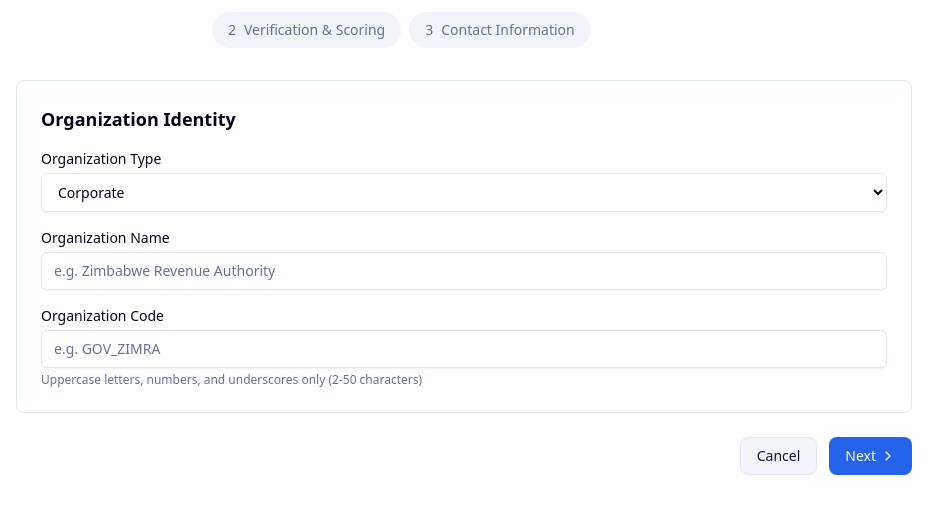
Test: OrganizationWizard › shows validation error when org_name is empty on Next
// Type a code but leave name empty
Type "TEST_CODE" into the field labelled "Organization Code" at (464, 349), box [41, 330, 887, 368]
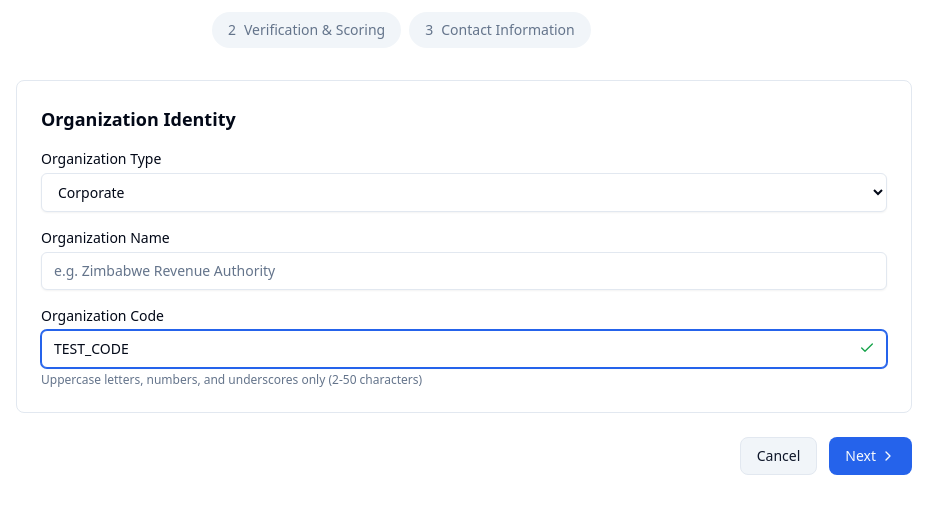
Click the button "Next" at (871, 456), box [829, 437, 912, 475]
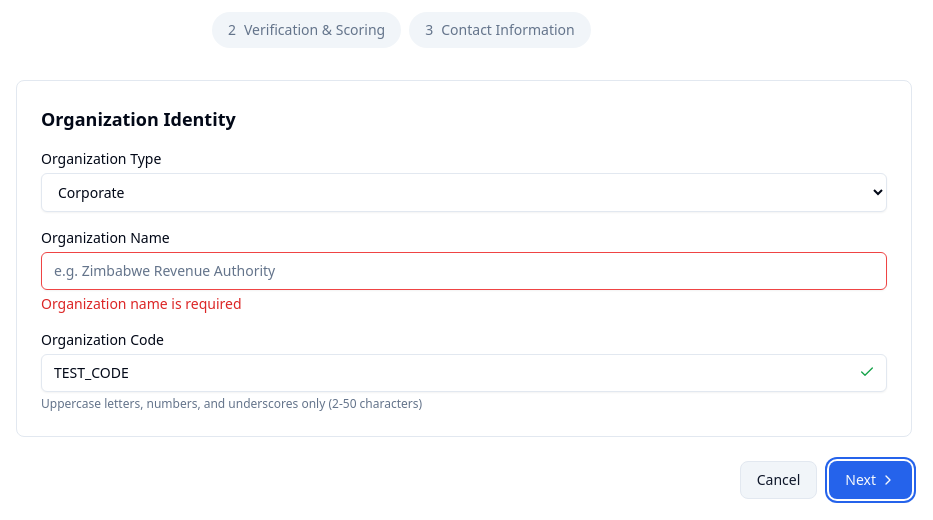
Expected: the text "Organization name is required" is shown, [41, 294, 242, 313]
